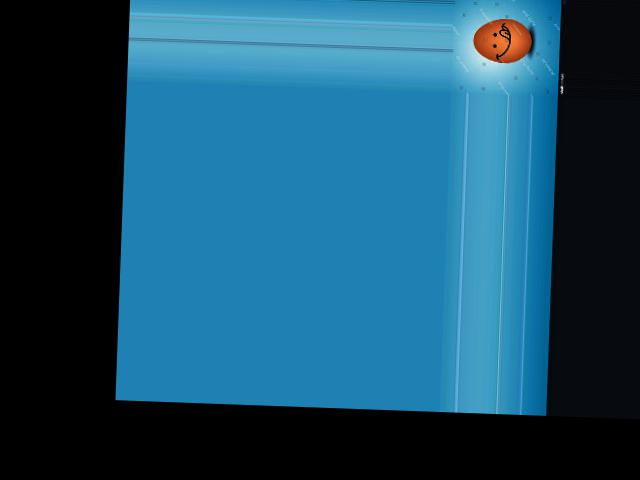egg: (472, 17, 532, 63)
